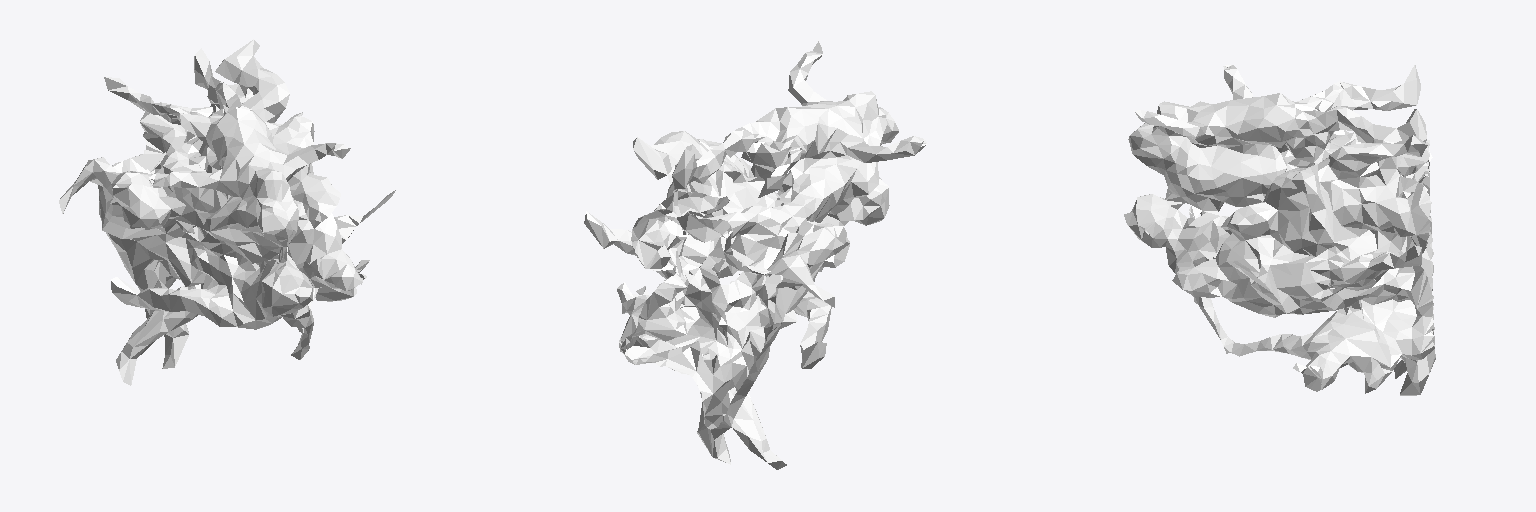
File: LesCopains.obj
3 renders of one model, left to right at view 1: azimuth 30°, elevation 25°; view 2: azimuth 150°, elevation 25°; view 3: azimuth 270°, elevation 25°, orthographic.
Parts seen in each view (by area): view 1: LesCopainsSD; view 2: LesCopainsSD; view 3: LesCopainsSD.
Boxes of the visible parts, x1=… form: LesCopainsSD: x1=59, y1=39, x2=395, y2=385; LesCopainsSD: x1=584, y1=41, x2=926, y2=469; LesCopainsSD: x1=1124, y1=65, x2=1435, y2=395.
Bounding box in the file's own units: 6.51 × 7.32 × 6.66.